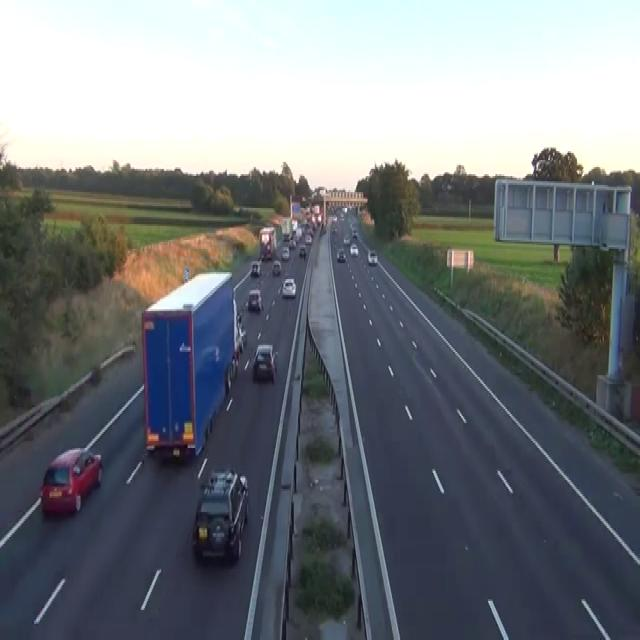Car: (191, 468, 249, 564), (39, 446, 103, 516), (252, 343, 277, 382), (236, 311, 246, 352), (201, 345, 219, 363), (247, 288, 261, 311), (281, 277, 296, 297), (238, 326, 247, 350), (236, 327, 244, 352), (260, 247, 272, 261), (367, 249, 377, 265), (250, 260, 260, 276), (272, 260, 281, 276), (336, 247, 346, 261), (349, 242, 358, 256), (281, 246, 289, 260), (299, 244, 306, 258), (236, 311, 242, 325), (295, 228, 302, 240), (304, 233, 312, 243), (289, 238, 296, 249), (343, 233, 350, 243), (351, 228, 357, 238), (321, 222, 326, 233), (283, 233, 289, 242), (331, 226, 337, 234), (342, 206, 347, 214), (318, 214, 322, 222), (339, 215, 344, 221), (333, 215, 337, 222)
Truck: (140, 268, 238, 461), (259, 226, 276, 260), (281, 217, 292, 240)
